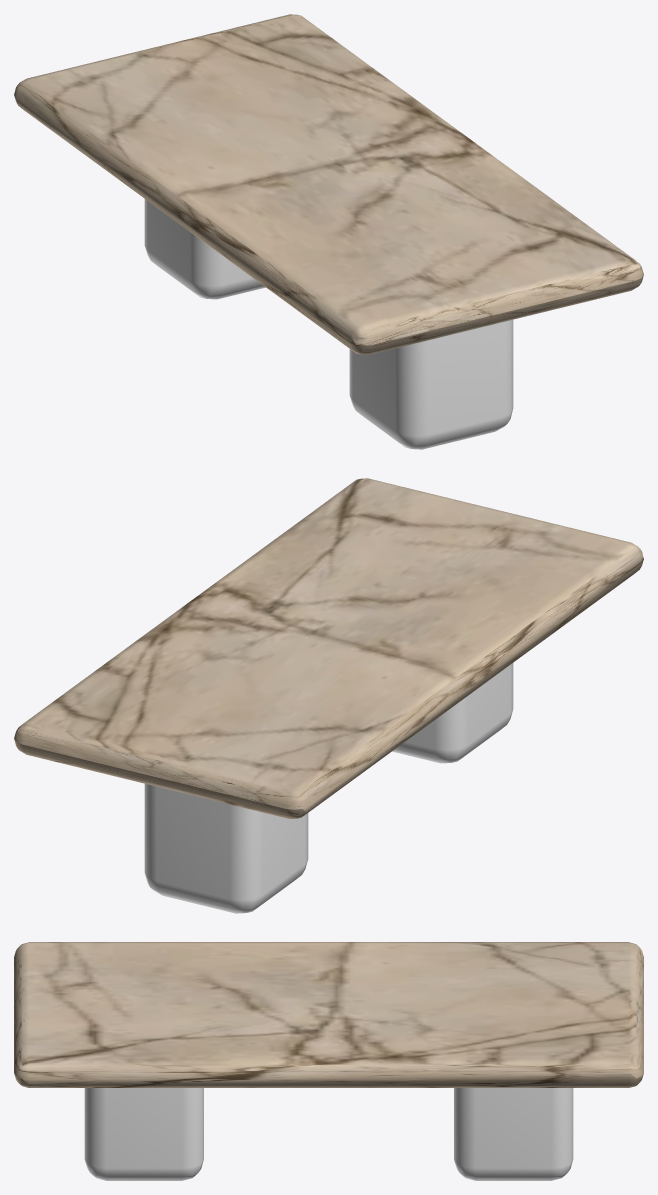
The model's file is dining-table.glb.
3 renders of one model, top to bottom at view 1: azimuth 30°, elevation 25°; view 2: azimuth 150°, elevation 25°; view 3: azimuth 270°, elevation 25°, orthographic. The views are drawn at different scales.
Parts seen in each view (by area): view 1: Oval travertine dining table.001, Dining pedestal.002, Dining pedestal.003; view 2: Oval travertine dining table.001, Dining pedestal.003, Dining pedestal.002; view 3: Oval travertine dining table.001, Dining pedestal.002, Dining pedestal.003.
Boxes of the visible parts, x1,y1,x2,y2 form: Oval travertine dining table.001: [14, 14, 643, 354]; Dining pedestal.002: [349, 319, 513, 449]; Dining pedestal.003: [144, 199, 265, 299]; Oval travertine dining table.001: [14, 478, 643, 818]; Dining pedestal.003: [144, 783, 308, 913]; Dining pedestal.002: [392, 663, 513, 763]; Oval travertine dining table.001: [14, 942, 643, 1087]; Dining pedestal.002: [84, 1088, 203, 1180]; Dining pedestal.003: [454, 1088, 573, 1180].
Bounding box in the file's own units: 1.4 × 0.8199 × 2.9.
2 materials, 1 textured.
